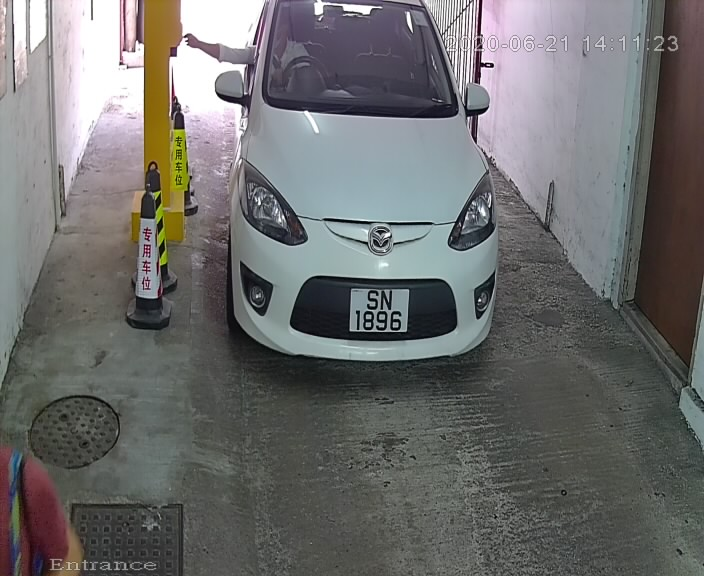privatecar: (196, 1, 522, 399)
